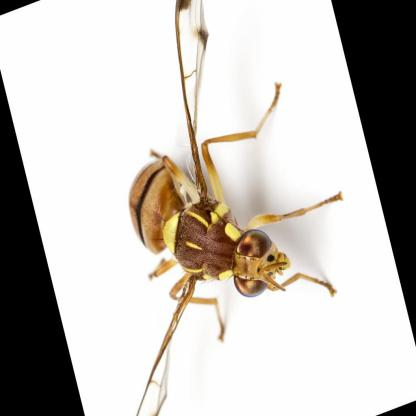fruit fly: (127, 0, 345, 415)
